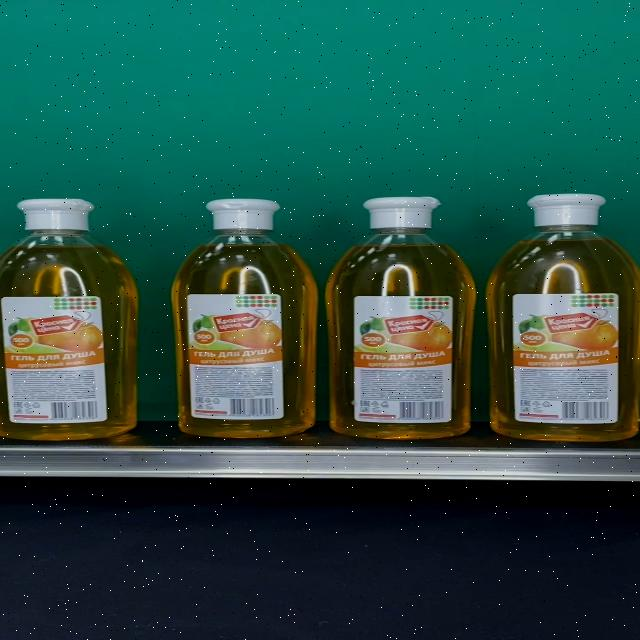Bottle: (484, 194, 640, 442), (327, 196, 476, 439), (171, 199, 317, 439), (0, 199, 137, 441)
Cap: (362, 196, 442, 230), (527, 193, 607, 226), (17, 200, 96, 232), (206, 199, 281, 231)
